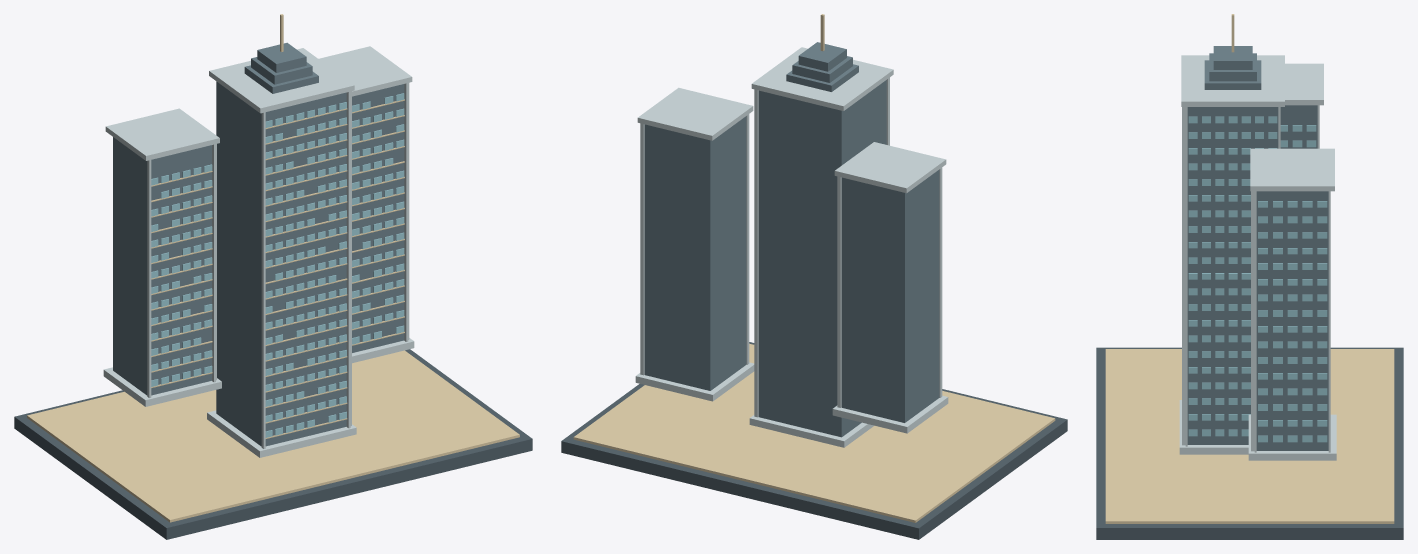
Rendered from automan-architectural-concept.glb.
The picture shows the model from 3 angles, left to right: view 1: azimuth 30°, elevation 25°; view 2: azimuth 150°, elevation 25°; view 3: azimuth 270°, elevation 25°; orthographic projection. The views are drawn at different scales.
Parts seen in each view (by area): view 1: concept_facade, concept_gold, concept_trim, concept_glass, concept_base; view 2: concept_facade, concept_gold, concept_trim, concept_base; view 3: concept_facade, concept_gold, concept_trim, concept_glass, concept_base.
Part boxes in pixels (bbox=[...]): concept_facade: bbox=[113, 42, 404, 446]; concept_gold: bbox=[27, 14, 519, 522]; concept_trim: bbox=[103, 46, 414, 457]; concept_glass: bbox=[151, 93, 404, 437]; concept_base: bbox=[14, 349, 532, 539]; concept_facade: bbox=[644, 42, 939, 437]; concept_gold: bbox=[573, 14, 1055, 522]; concept_trim: bbox=[635, 47, 948, 447]; concept_base: bbox=[561, 342, 1067, 539]; concept_facade: bbox=[1187, 46, 1328, 450]; concept_gold: bbox=[1105, 14, 1394, 523]; concept_trim: bbox=[1179, 55, 1336, 460]; concept_glass: bbox=[1188, 116, 1327, 442]; concept_base: bbox=[1096, 347, 1403, 539].
Size of the model in its own units: 6.8 by 7.65 by 4.9.
